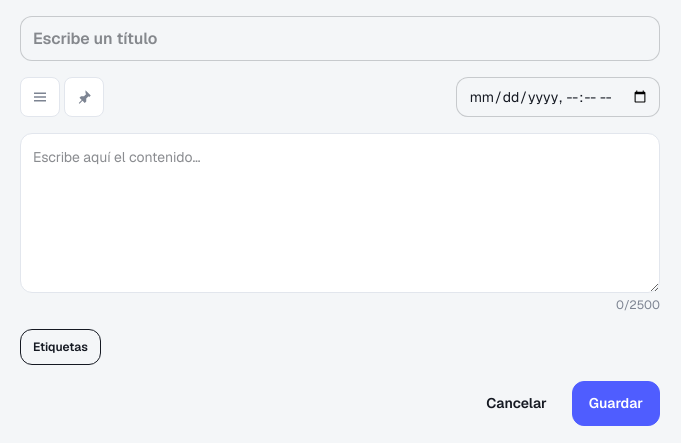
NoteEditor › muestra el contador de caracteres del contenido (RF-36)
expect the text "0/2500" is shown: met, box [616, 297, 660, 313]
In the text box named "Nota": (340, 213) [20, 133, 660, 293], type "hola"
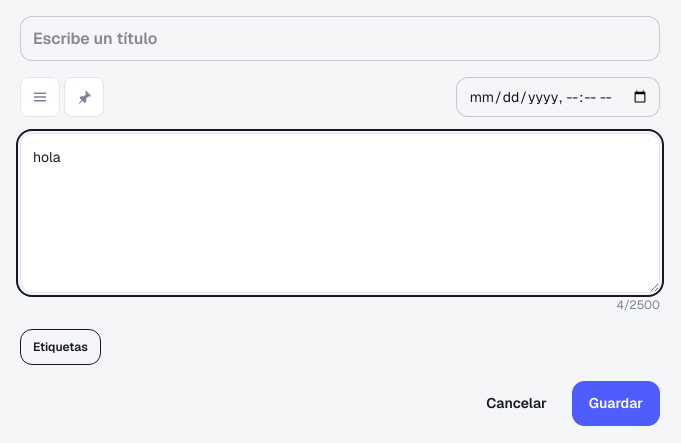
expect the text "4/2500" is shown: met, box [617, 297, 660, 313]
